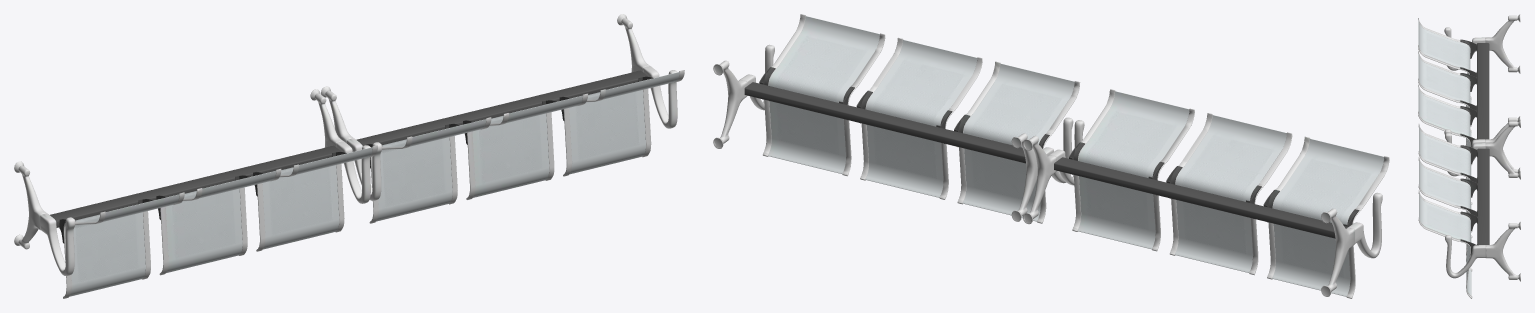
File: Ghế phòng chờ 2 ghế.glb
3 views of the same model, side by side, from view 1: azimuth 30°, elevation 25°; view 2: azimuth 150°, elevation 25°; view 3: azimuth 270°, elevation 25° (orthographic). The views are drawn at different scales.
Visible parts, largest first — view 1: Waiting Bench (3 Seats)_Waiting Bench_0.002, Waiting Bench (3 Seats)_Waiting Bench_0.001; view 2: Waiting Bench (3 Seats)_Waiting Bench_0.002, Waiting Bench (3 Seats)_Waiting Bench_0.001; view 3: Waiting Bench (3 Seats)_Waiting Bench_0.001, Waiting Bench (3 Seats)_Waiting Bench_0.002.
Boxes of the visible parts, <box> form: Waiting Bench (3 Seats)_Waiting Bench_0.002: <box>14,89,377,298</box>; Waiting Bench (3 Seats)_Waiting Bench_0.001: <box>321,14,684,223</box>; Waiting Bench (3 Seats)_Waiting Bench_0.002: <box>1023,89,1389,298</box>; Waiting Bench (3 Seats)_Waiting Bench_0.001: <box>713,14,1080,223</box>; Waiting Bench (3 Seats)_Waiting Bench_0.001: <box>1418,119,1520,298</box>; Waiting Bench (3 Seats)_Waiting Bench_0.002: <box>1418,14,1520,179</box>.
Size of the model in its own units: 4.63 by 0.8215 by 0.9521.
Materials: 1 (1 with a texture image).
